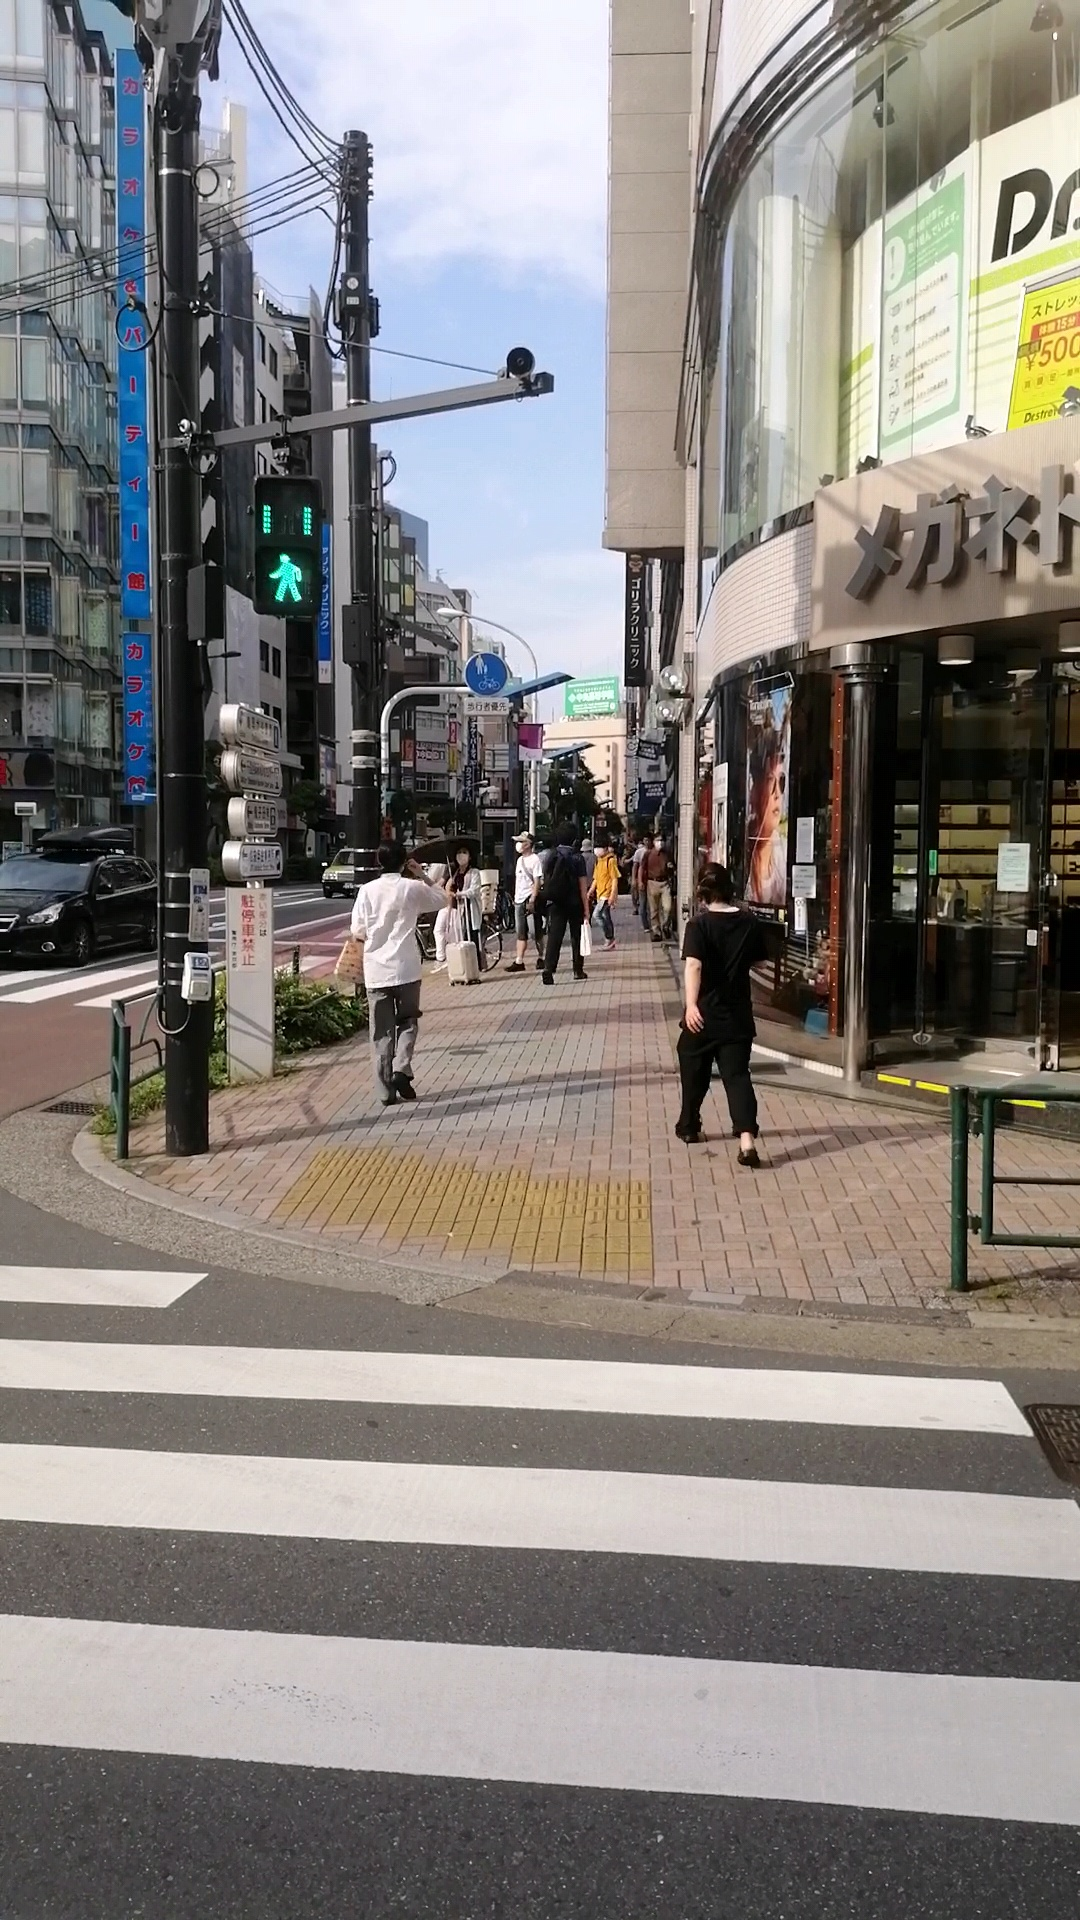green: (249, 473, 324, 617)
